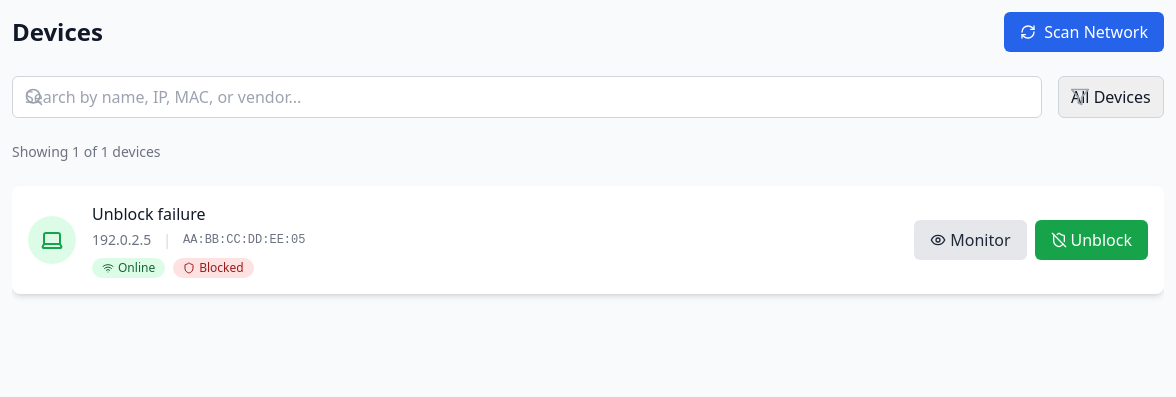
it: reloads persisted cleanup failure after unblock returns an error
Expected: the link "Unblock failure" is shown, [92,203,206,225]
Click the button titled "Unblock device" at [1091, 240], box [1034,220,1148,260]
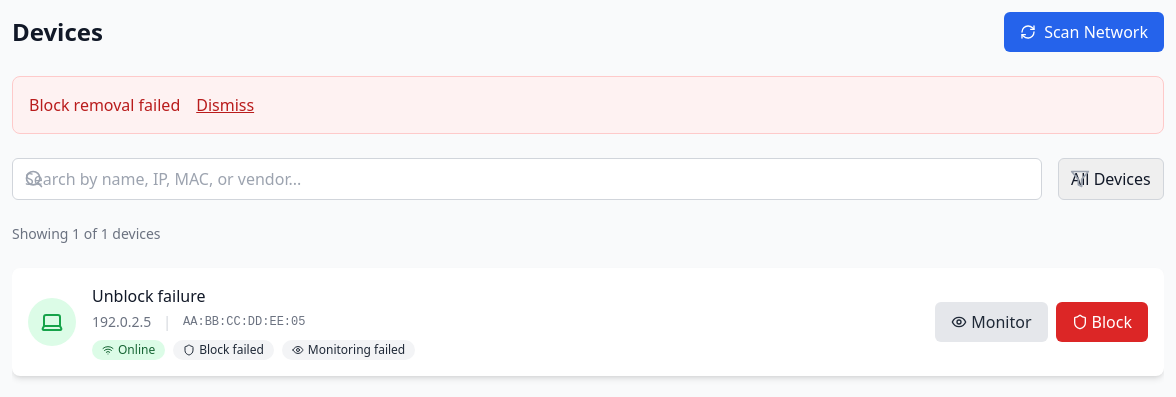
Expected: the text "Block failed" is shown, [173,340,274,360]
